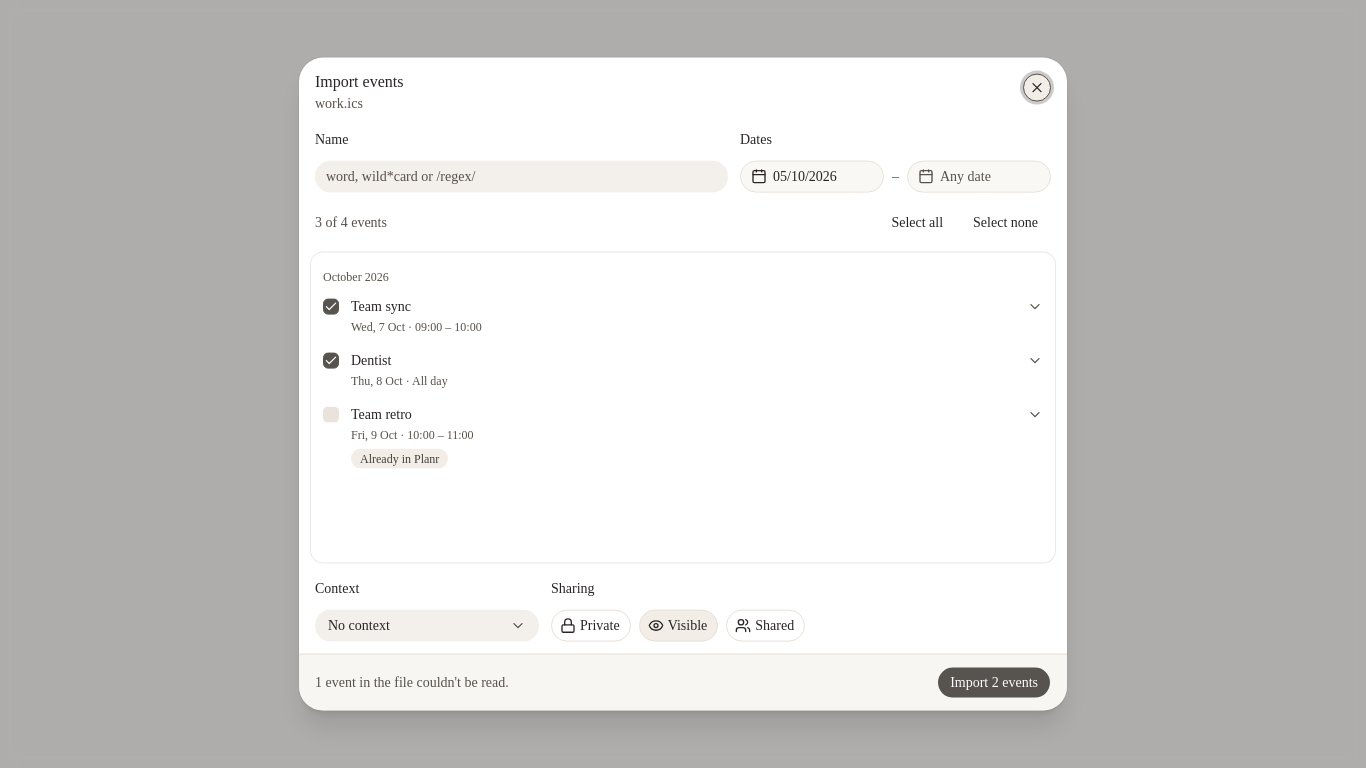
Test case: IcsImportDialog › filters by name, flags an invalid regex, and selects only what's shown
Expected: the text "Team sync" is shown, [351,299,411,314]
In the field labelled "Name": (522,177) [315,161,728,193], type "team*"
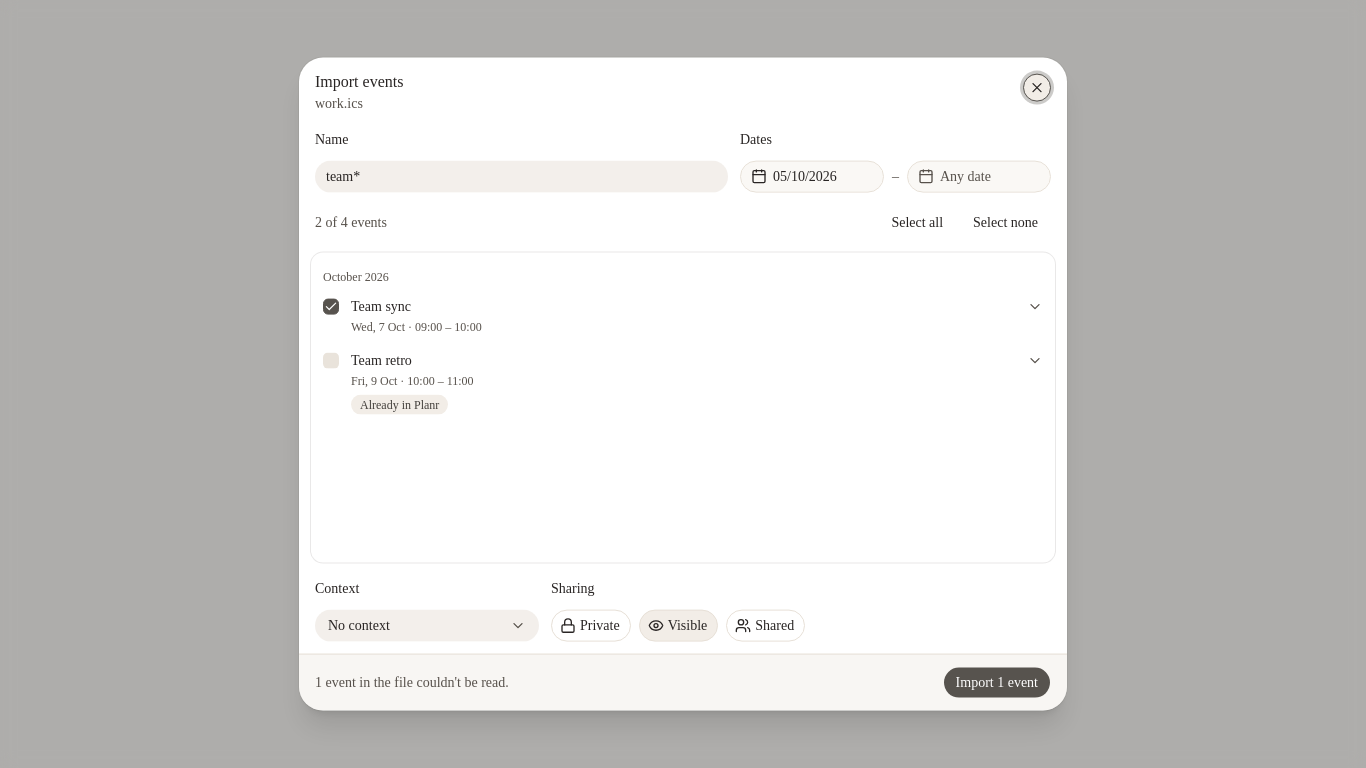
Expected: the text "Team sync" is shown, [351,299,411,314]
Now the button "Dentist" is gone
Click the button "Select none": (1006,223) [960,209,1051,237]
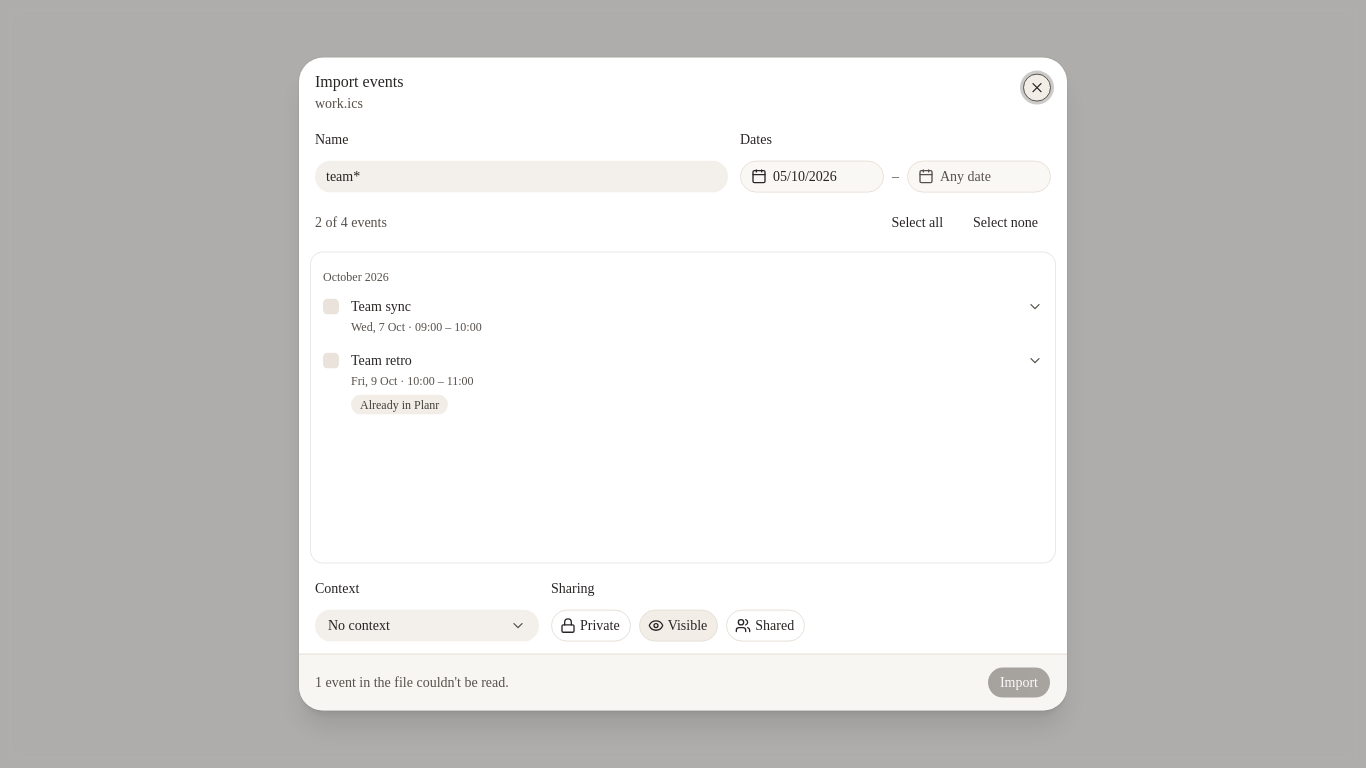
Now the button "Import" is disabled, box [987,666,1051,698]
Click the button "Select all": (917,223) [878,209,956,237]
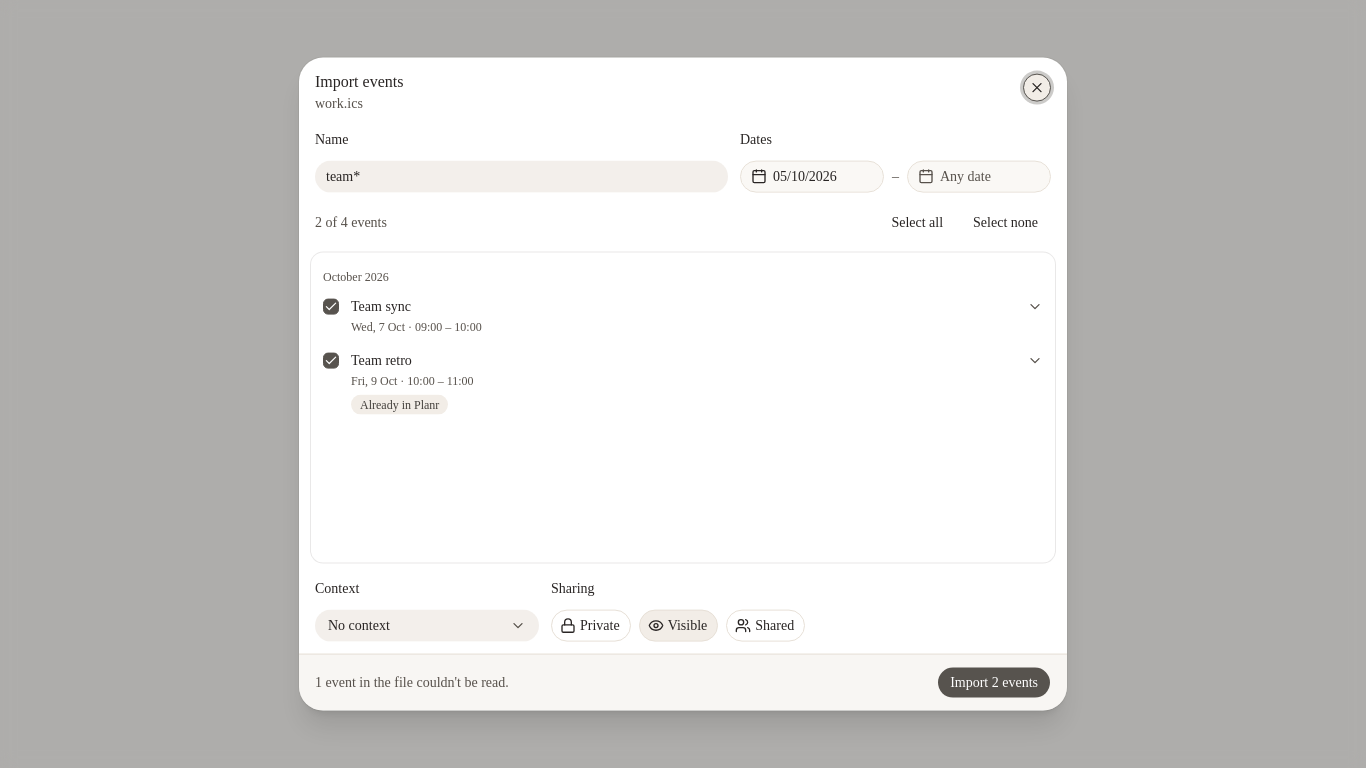
Now the button "Import 2 events" is enabled, box [937,666,1051,698]
Replace the text in the field labelled "Name" with "/[oops/": (522,177) [315,161,728,193]
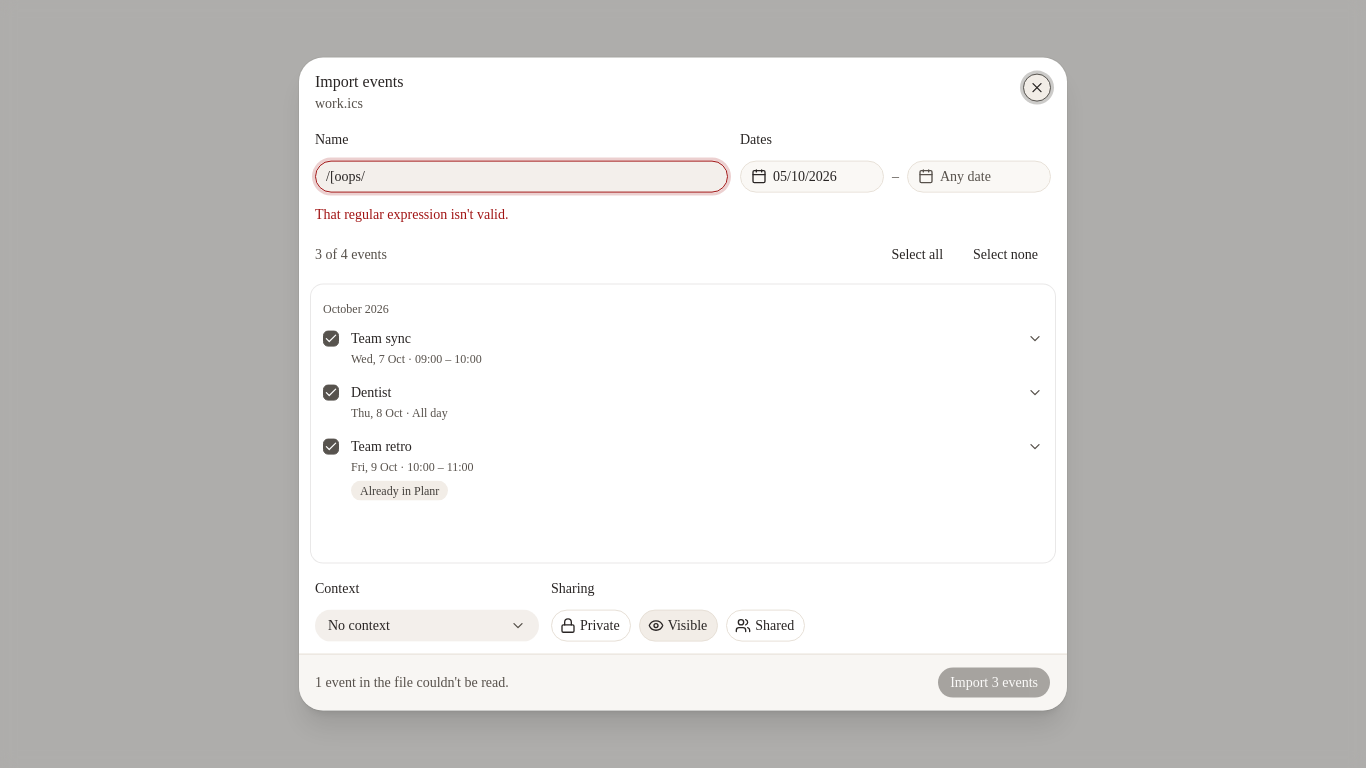
Now the text "That regular expression isn't valid." is shown, box [315,207,508,222]
Now the button "Import 3 events" is disabled, box [937,666,1051,698]
Clear the field labelled "Name": (522,177) [315,161,728,193]
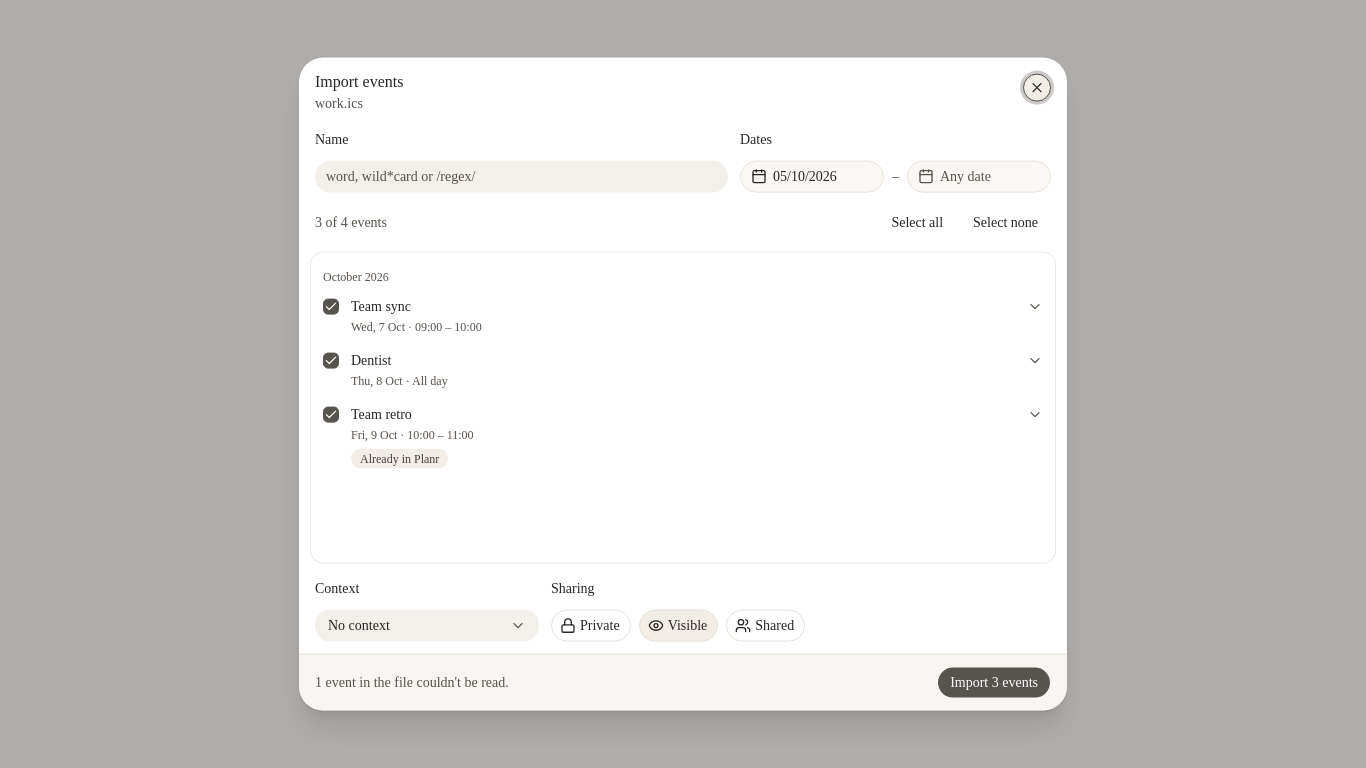
Now the button "Import 3 events" is enabled, box [937,666,1051,698]
